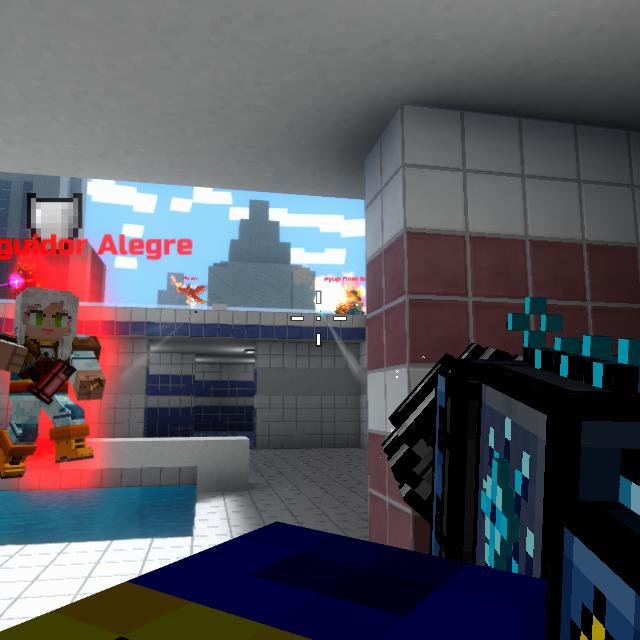Enemy: (2, 285, 107, 467), (349, 286, 363, 311)
